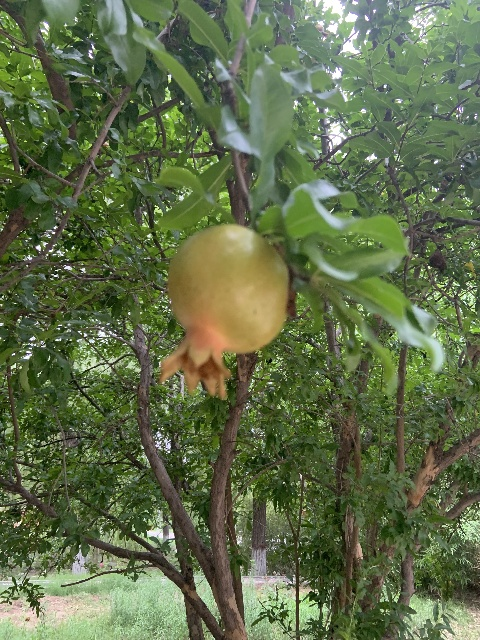mid-growth: (158, 224, 290, 399)
